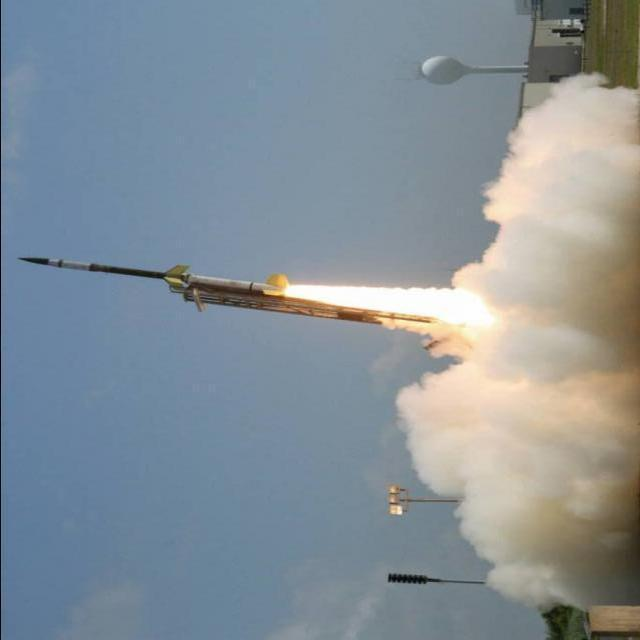missile: (19, 248, 287, 305)
